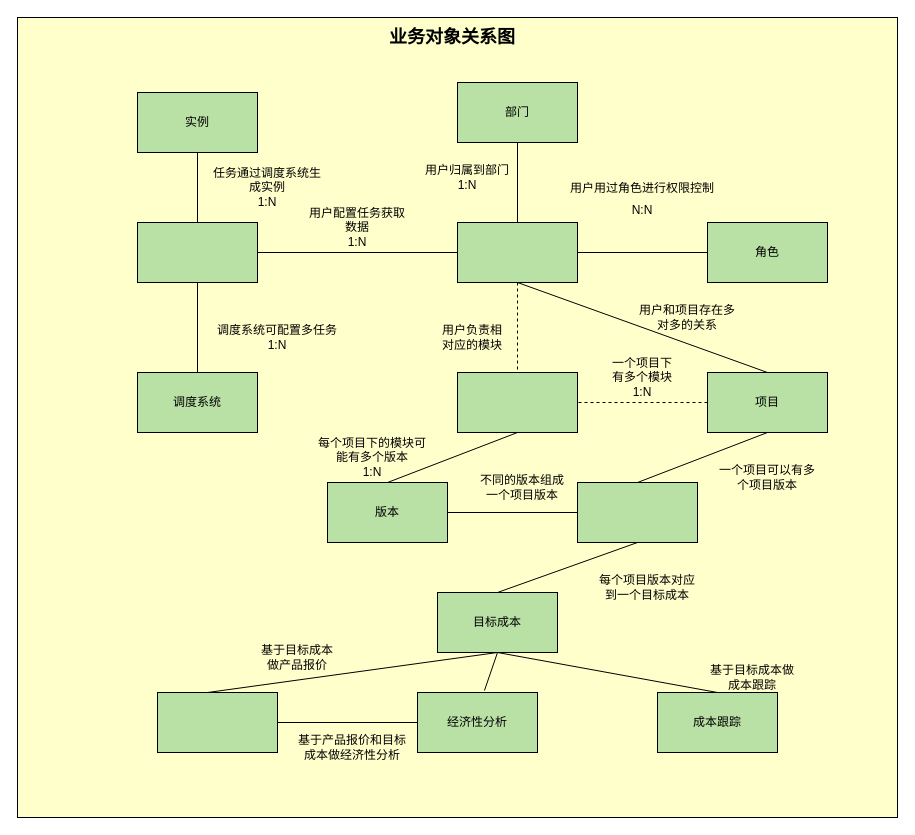
Image size: 915x835. Some labels were removed from this diagram. Each missing label, with the centre of its shape:
"产品报价" goes at (x=217, y=722).
"任务" goes at (x=197, y=252).
"模块" goes at (x=517, y=402).
"用户" goes at (x=517, y=252).
"项目版本" goes at (x=637, y=512).
